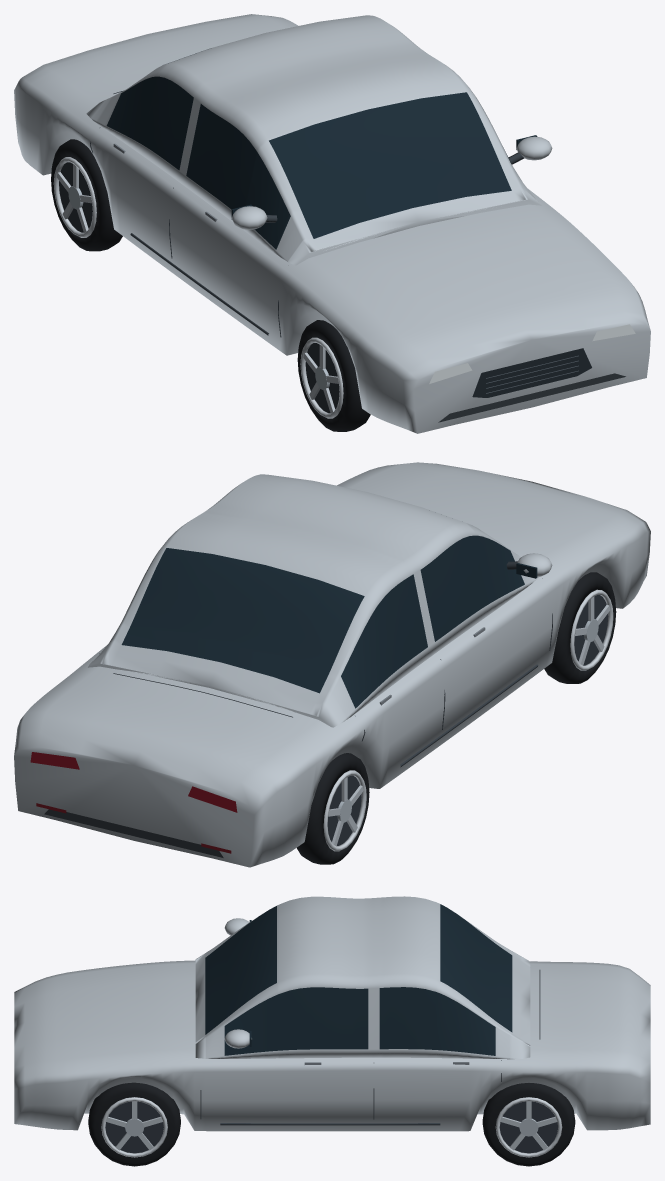
The model's file is sedan-generic.glb.
3 views of the same model, one above another, from view 1: azimuth 30°, elevation 25°; view 2: azimuth 150°, elevation 25°; view 3: azimuth 270°, elevation 25° (orthographic). The views are drawn at different scales.
Visible parts, largest first — view 1: body, glazing, trim-and-lamps, tyres; view 2: body, glazing, trim-and-lamps, tyres; view 3: body, glazing, trim-and-lamps, tyres.
Part boxes in pixels (left/top/right/bottom): body: left=14, top=14, right=650, bottom=433; glazing: left=106, top=51, right=537, bottom=249; trim-and-lamps: left=53, top=90, right=635, bottom=422; tyres: left=51, top=139, right=370, bottom=431; body: left=14, top=462, right=650, bottom=867; glazing: left=121, top=535, right=537, bottom=708; trim-and-lamps: left=30, top=561, right=613, bottom=857; tyres: left=297, top=572, right=616, bottom=864; body: left=14, top=896, right=650, bottom=1131; glazing: left=205, top=904, right=512, bottom=1055; trim-and-lamps: left=101, top=970, right=562, bottom=1157; tyres: left=88, top=1082, right=575, bottom=1166.
Size of the model in its own units: 2.11 by 1.49 by 4.6.
